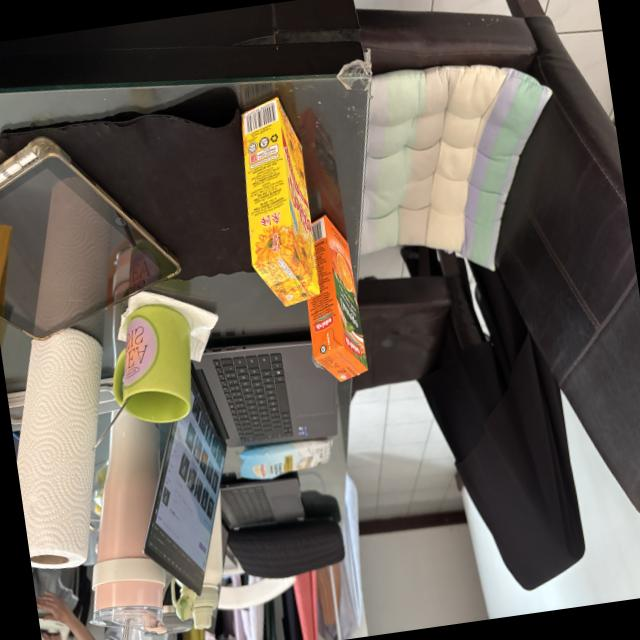drink_carton: (222, 86, 334, 324), (286, 208, 376, 402)
